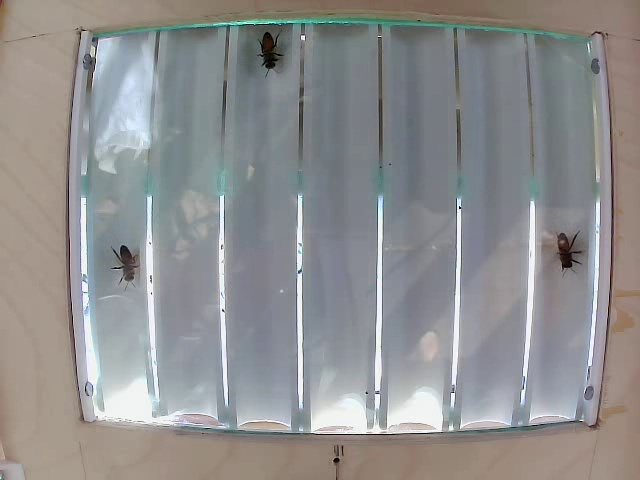bee: (252, 28, 295, 78), (551, 230, 594, 278), (104, 250, 137, 289)
